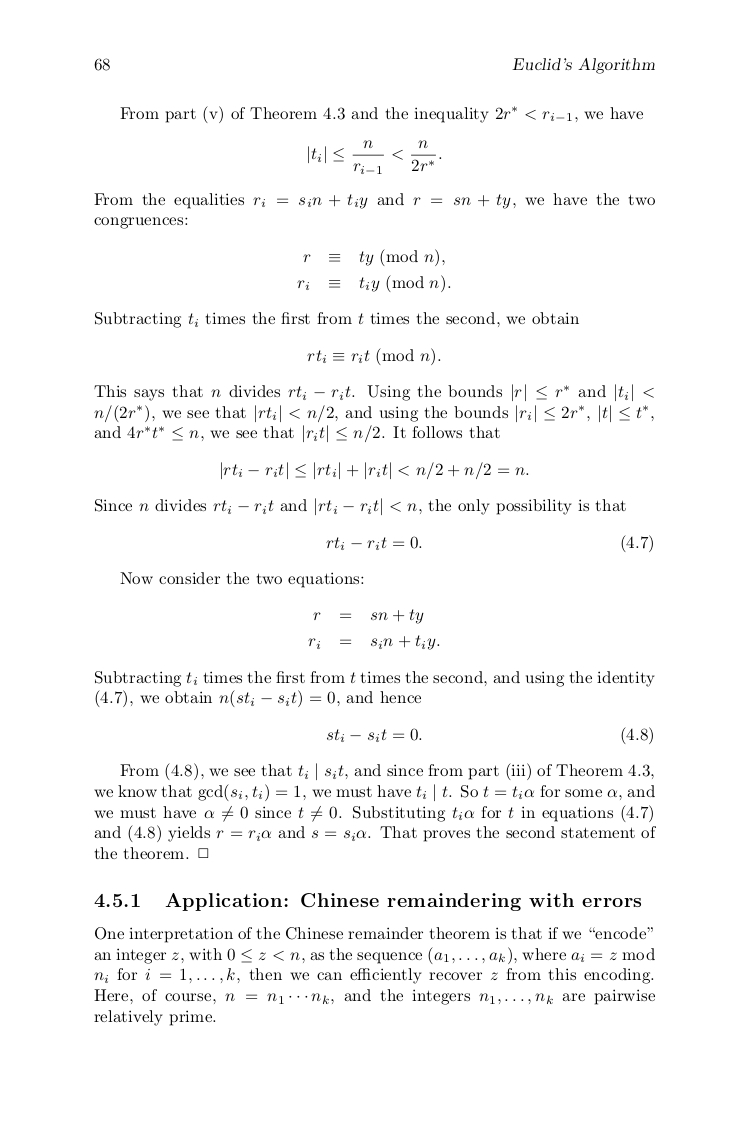formula: (326, 534, 652, 553), (327, 726, 652, 745), (221, 461, 528, 480), (308, 139, 441, 174), (297, 274, 450, 293), (303, 248, 444, 267), (307, 347, 440, 366), (308, 634, 439, 650), (313, 608, 423, 624)
